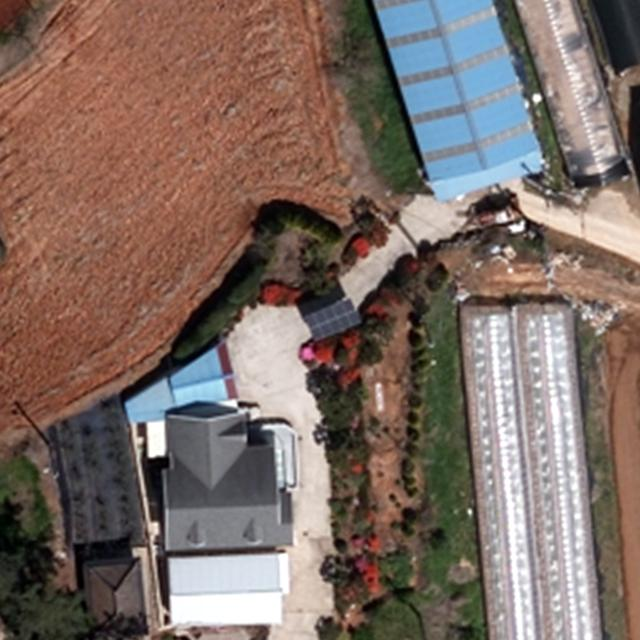panel: (300, 296, 360, 347)
